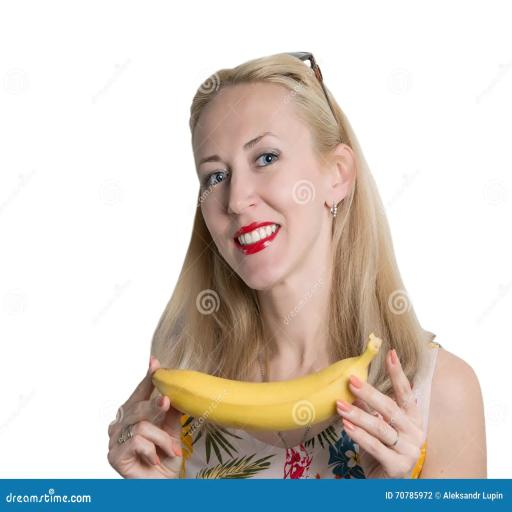banana: (153, 333, 381, 431)
